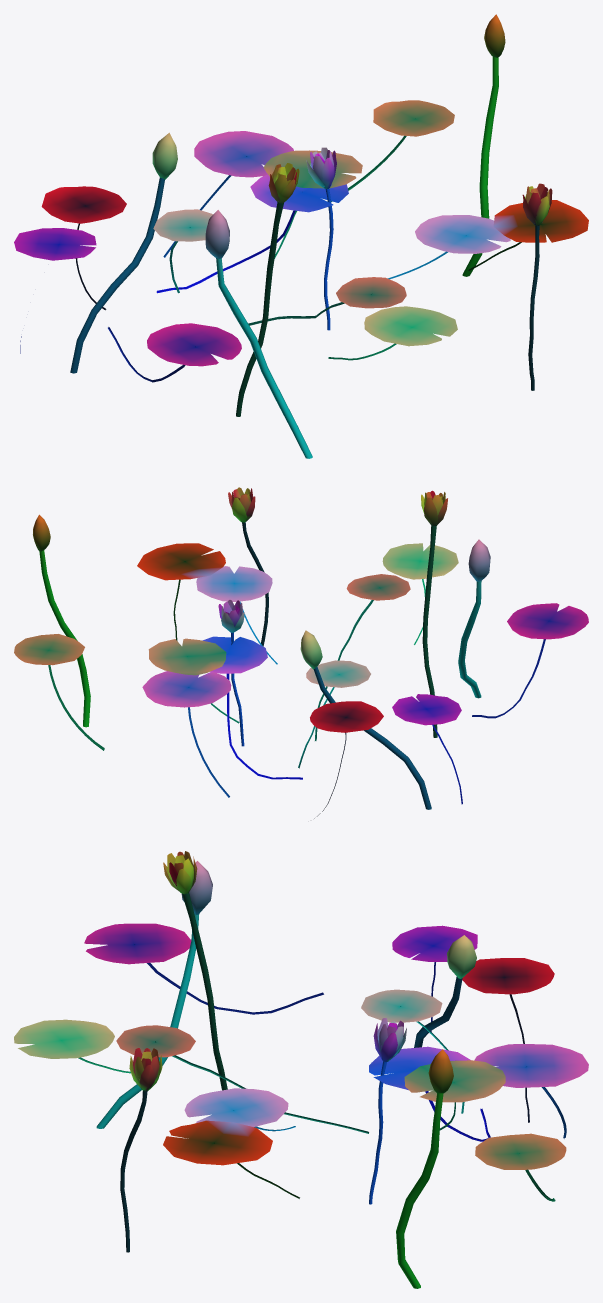
File: Rembrandt_Water_Lily_uc2kajgia_High_uc2kajgia_VarC_LOD0.fbx
3 views of the same model, one above another, from view 1: azimuth 30°, elevation 25°; view 2: azimuth 150°, elevation 25°; view 3: azimuth 270°, elevation 25° (orthographic). The views are drawn at different scales.
Parts seen in each view (by area): view 1: _497d_VarC_LOD0; view 2: _497d_VarC_LOD0; view 3: _497d_VarC_LOD0.
Part boxes in pixels (x1=…): _497d_VarC_LOD0: x1=14, y1=14, x2=588, y2=458; _497d_VarC_LOD0: x1=14, y1=487, x2=588, y2=818; _497d_VarC_LOD0: x1=14, y1=851, x2=588, y2=1288.
Size of the model in its own units: 139 by 70.39 by 131.
